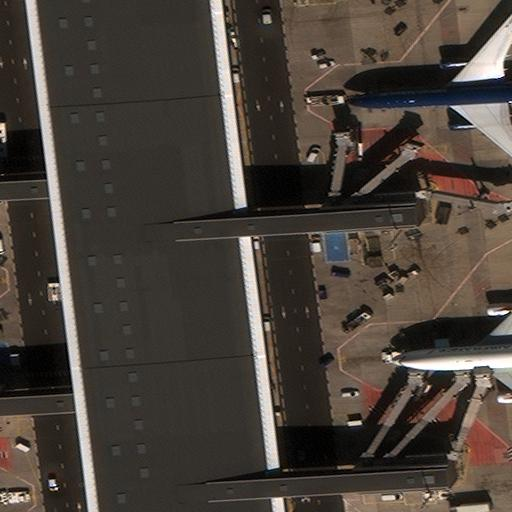Large Civil Transport: (345, 8, 511, 173), (391, 283, 511, 418)
